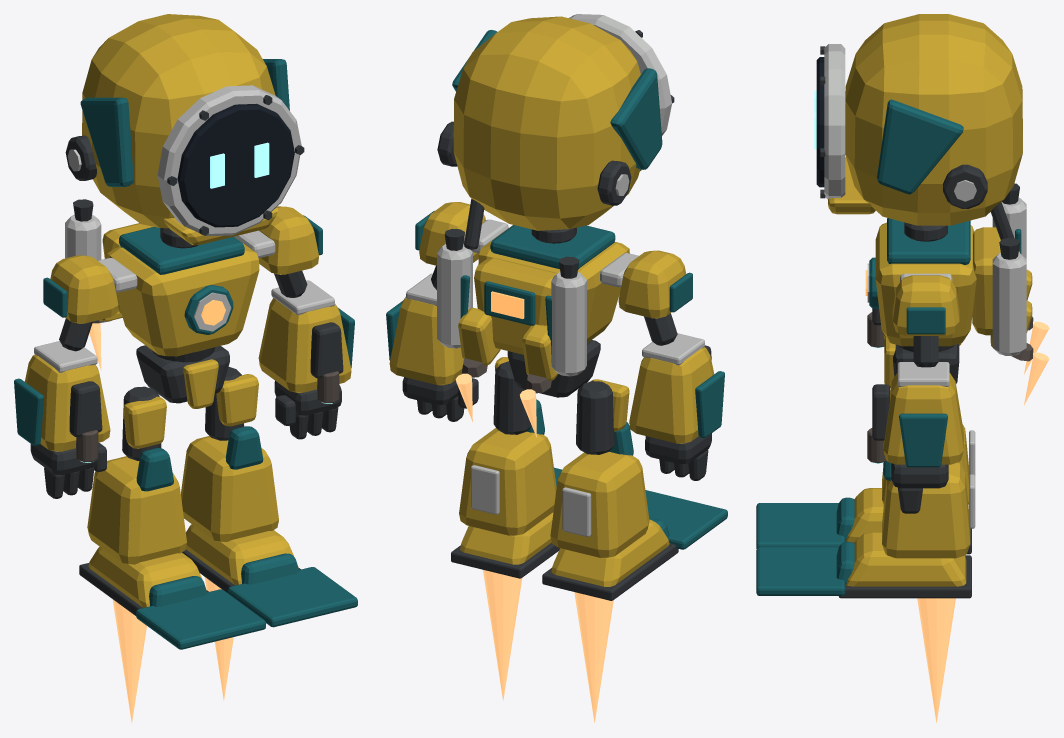
File: robo_v3.glb
The picture shows the model from 3 angles, left to right: view 1: azimuth 30°, elevation 25°; view 2: azimuth 150°, elevation 25°; view 3: azimuth 270°, elevation 25°; orthographic projection.
Parts seen in each view (by area): view 1: cabeca_p, visor, tronco_p, bota.001, bota, aro_escotilha, antebraco, pe_de_pato.001, pe_de_pato, antebraco.001, placa_lado.001, ombro_p.001 (+40 smaller); view 2: cabeca_p, bota.001, bota, antebraco.001, antebraco, mochila, cilindro_ar.001, ombro_p.001, pe.001, placa_lado.001, gola, tronco_p (+32 smaller); view 3: cabeca_p, bota, placa_lado, tronco_p, pe_de_pato, pe, antebraco, pe_de_pato.001, cilindro_ar, aro_escotilha, gola, ombro_p (+21 smaller).
Part boxes in pixels (x1,y1,x2,y2): cabeca_p: (82,14,275,228); visor: (177,103,294,227); tronco_p: (107,237,259,356); bota.001: (87,456,186,564); bota: (181,436,278,541); aro_escotilha: (157,85,301,235); antebraco: (258,298,351,392); pe_de_pato.001: (136,589,265,649); pe_de_pato: (228,567,357,627); antebraco.001: (24,354,110,451); placa_lado.001: (80,97,133,186); ombro_p.001: (50,255,118,323); cabeca_p: (453,16,640,230); bota.001: (550,451,649,558); bota: (459,428,556,535); antebraco.001: (629,347,714,443); antebraco: (389,297,463,385); mochila: (474,258,557,354); cilindro_ar.001: (551,272,586,376); ombro_p.001: (618,250,686,318); pe.001: (551,519,669,586); placa_lado.001: (610,68,662,169); gola: (490,225,615,269); tronco_p: (478,225,629,342); cabeca_p: (845,14,1022,225); bota: (882,462,970,558); placa_lado: (877,99,963,194); tronco_p: (875,222,976,346); pe_de_pato: (756,547,845,595); pe: (846,532,966,586); antebraco: (883,373,963,464); pe_de_pato.001: (756,503,845,548); cilindro_ar: (992,253,1026,355); aro_escotilha: (824,44,845,199); gola: (887,218,970,264); ombro_p: (892,275,959,335).
Size of the model in its own units: 0.692 by 1.43 by 0.5612.
